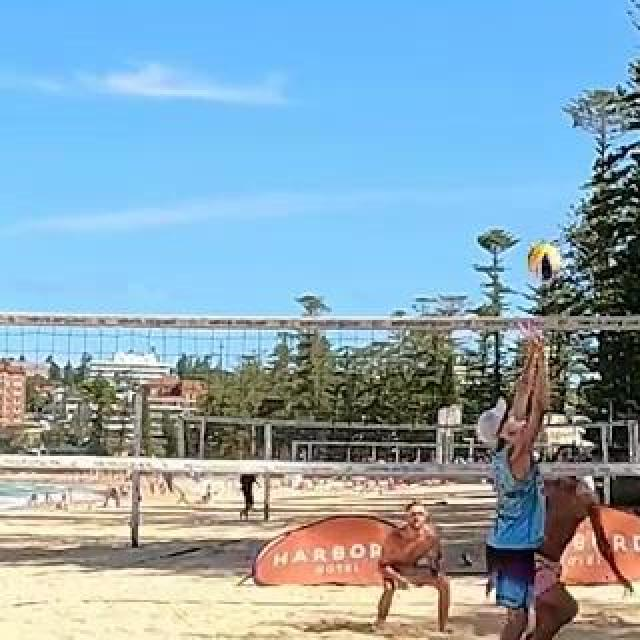volleyball: (526, 244, 562, 280)
